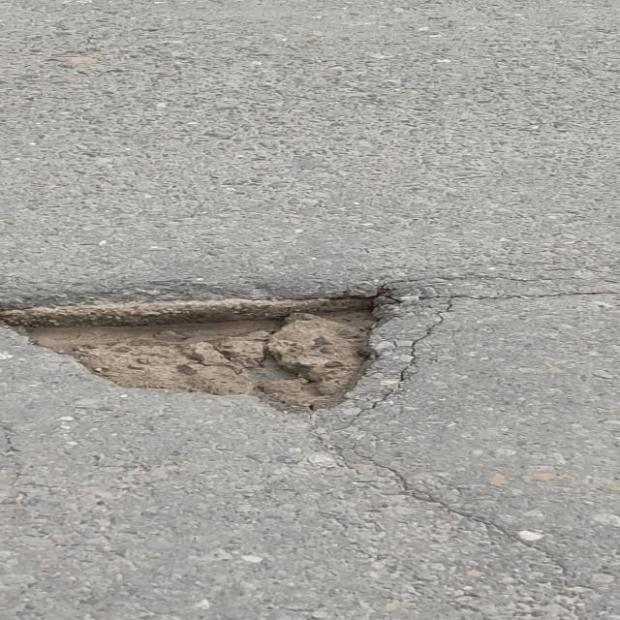lubang: (0, 287, 397, 410)
